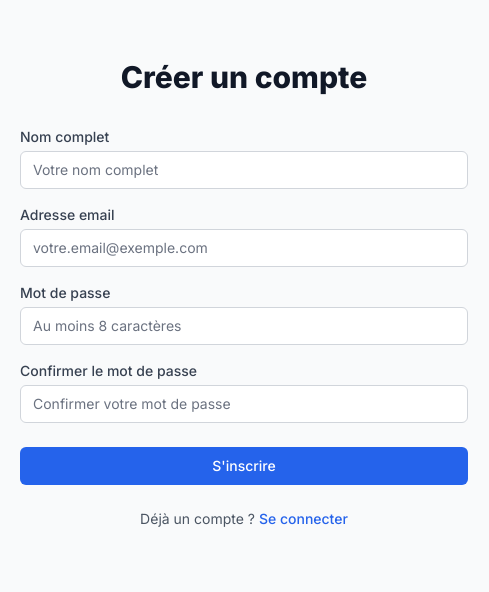
Test: FormulaireInscription › Validation du mot de passe › rejette un mot de passe trop court (moins de 8 caractères)
Type "1234567" into the password field labelled "Mot de passe" at (244, 326), box [20,307,468,345]
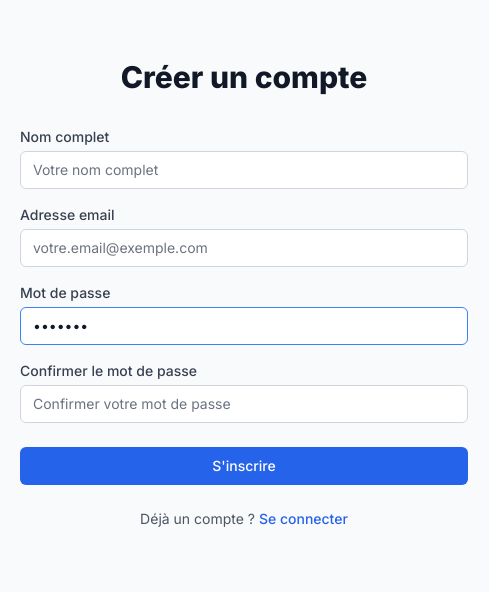
Click the button "S'inscrire" at (244, 466), box [20,447,468,485]
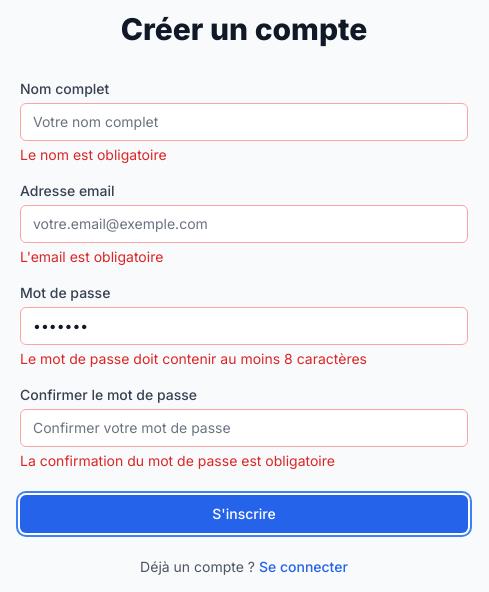
Result: the text "Le mot de passe doit contenir au moins 8 caractères" is shown at [20,350,367,367]
